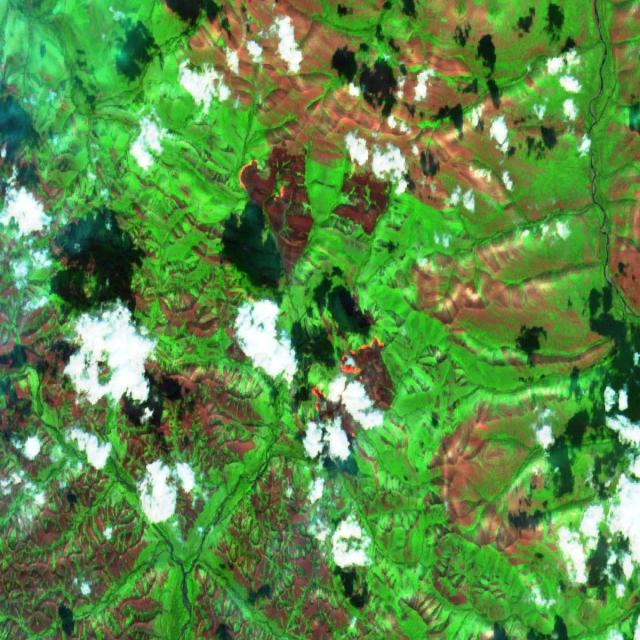fire: (232, 141, 332, 252), (301, 325, 408, 428)
